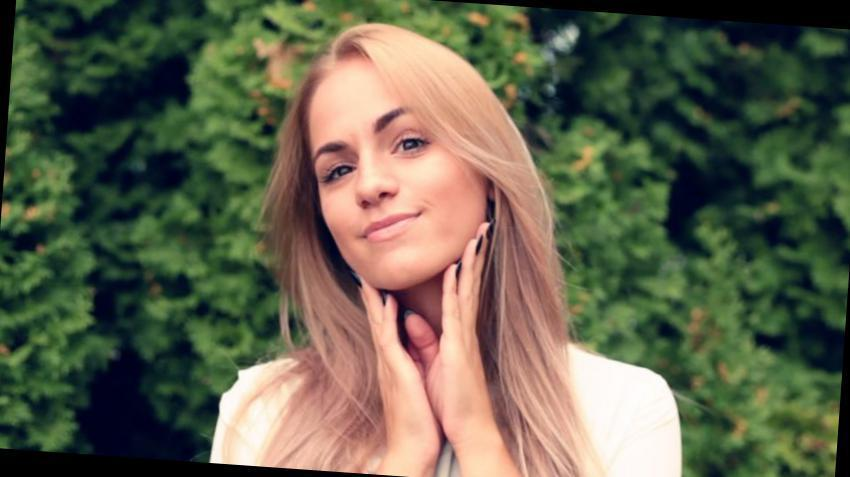Sober: (311, 73, 473, 278)
